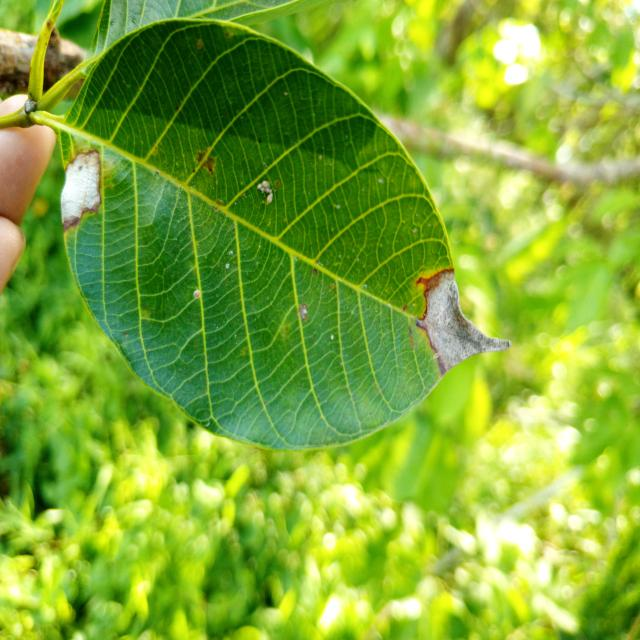Colletotrichum: (313, 268, 317, 274)
Leaf-Blight: (416, 268, 511, 377), (62, 149, 102, 232)
